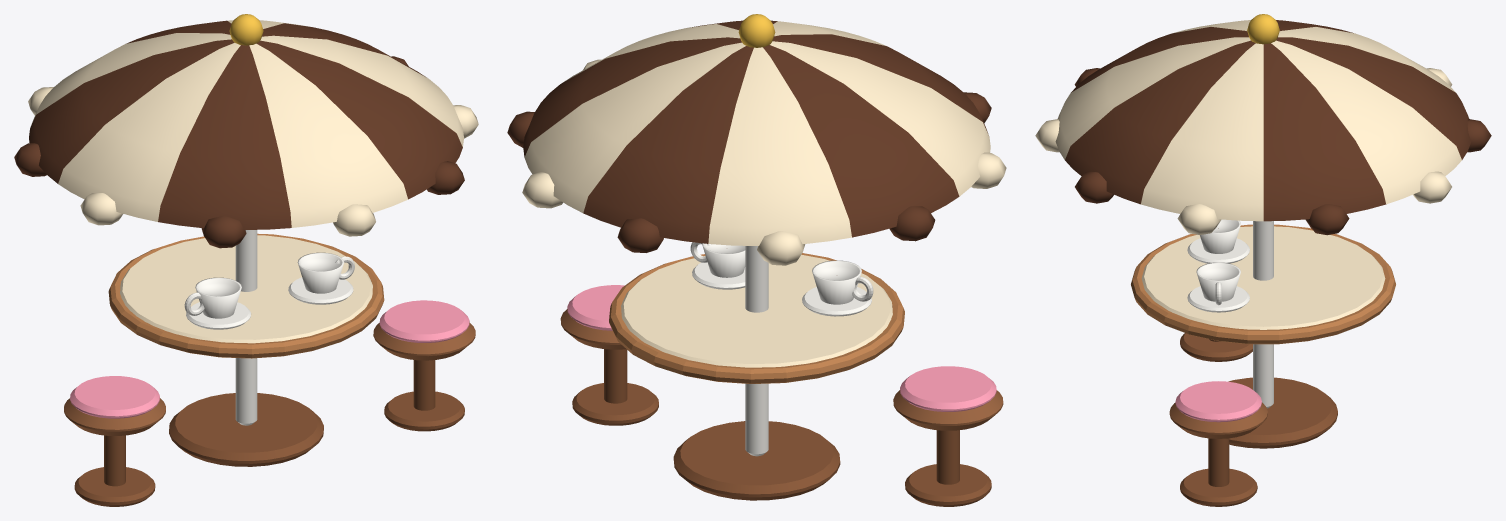
Rendered from parasol_table.fbx.
The picture shows the model from 3 angles, left to right: view 1: azimuth 30°, elevation 25°; view 2: azimuth 150°, elevation 25°; view 3: azimuth 270°, elevation 25°; orthographic projection. The views are drawn at different scales.
Visible parts, largest first — view 1: parasol_table_Cream, parasol_table_Coffee, parasol_table_WoodDark, parasol_table_White, parasol_table_Pink, parasol_table_Wood, parasol_table_Brown, parasol_table_Gold; view 2: parasol_table_Cream, parasol_table_Coffee, parasol_table_WoodDark, parasol_table_White, parasol_table_Wood, parasol_table_Pink, parasol_table_Brown, parasol_table_Gold; view 3: parasol_table_Cream, parasol_table_Coffee, parasol_table_WoodDark, parasol_table_White, parasol_table_Wood, parasol_table_Pink, parasol_table_Brown, parasol_table_Gold.
Part boxes in pixels (x1,y1,x2,y2): parasol_table_Cream: (28, 20, 478, 343); parasol_table_Coffee: (14, 20, 464, 248); parasol_table_WoodDark: (74, 360, 464, 506); parasol_table_White: (184, 230, 354, 425); parasol_table_Pink: (70, 300, 469, 418); parasol_table_Wood: (108, 233, 384, 358); parasol_table_Brown: (64, 322, 475, 435); parasol_table_Gold: (229, 14, 263, 45); parasol_table_Cream: (522, 21, 1006, 367); parasol_table_Coffee: (507, 20, 991, 252); parasol_table_WoodDark: (572, 349, 991, 506); parasol_table_White: (690, 242, 873, 456); parasol_table_Wood: (609, 253, 904, 383); parasol_table_Pink: (567, 285, 996, 411); parasol_table_Brown: (560, 309, 1003, 430); parasol_table_Gold: (738, 14, 775, 47); parasol_table_Cream: (1035, 20, 1461, 329); parasol_table_Coffee: (1065, 20, 1491, 235); parasol_table_WoodDark: (1180, 333, 1337, 506); parasol_table_White: (1187, 219, 1273, 408); parasol_table_Wood: (1131, 224, 1395, 344); parasol_table_Pink: (1175, 381, 1261, 422); parasol_table_Brown: (1169, 402, 1267, 438); parasol_table_Gold: (1247, 14, 1279, 44).
Size of the model in its own units: 29.6 by 29.9 by 30.6.
